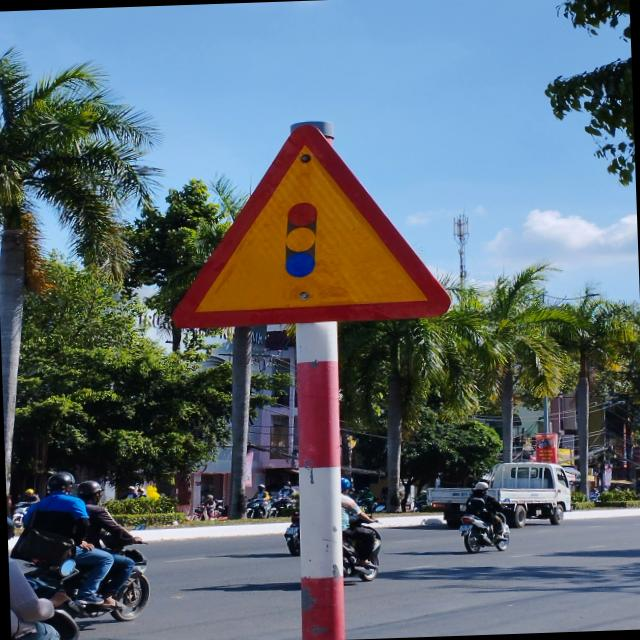Duong_Co_Go_Giam_Toc: (164, 115, 453, 327)
